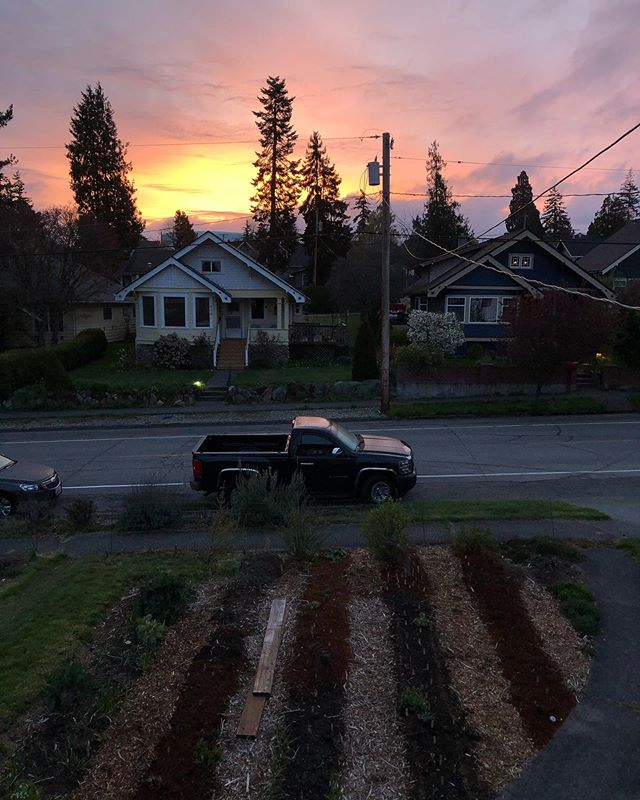building: (415, 232, 607, 348), (126, 248, 299, 359)
car: (184, 419, 425, 507)
sky: (1, 1, 632, 181)
street: (1, 405, 622, 497)
tree: (66, 82, 151, 249), (255, 78, 306, 244), (290, 132, 346, 238), (409, 128, 465, 234), (497, 165, 544, 237)
